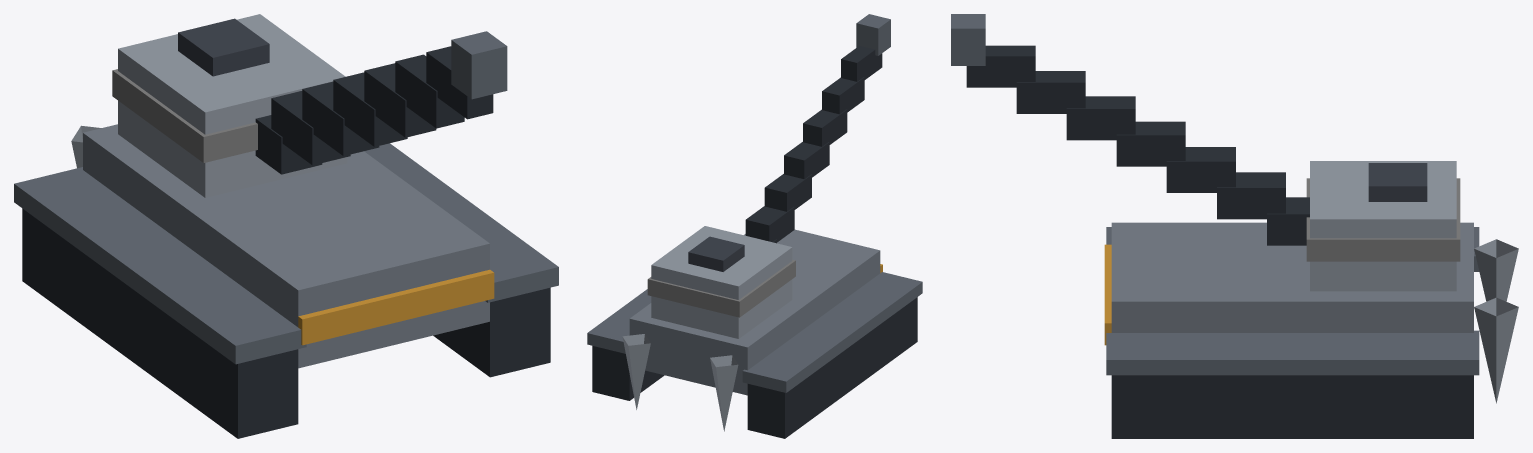
The model's file is earthshaker.obj.
3 views of the same model, side by side, from view 1: azimuth 30°, elevation 25°; view 2: azimuth 150°, elevation 25°; view 3: azimuth 270°, elevation 25° (orthographic). The views are drawn at different scales.
Visible parts, largest first — view 1: earthshaker; view 2: earthshaker; view 3: earthshaker.
Part boxes in pixels (x1,y1,x2,y2): earthshaker: (14,14,558,438); earthshaker: (587,14,922,438); earthshaker: (951,14,1518,438).
Size of the model in its own units: 1.82 by 2.26 by 3.29.
